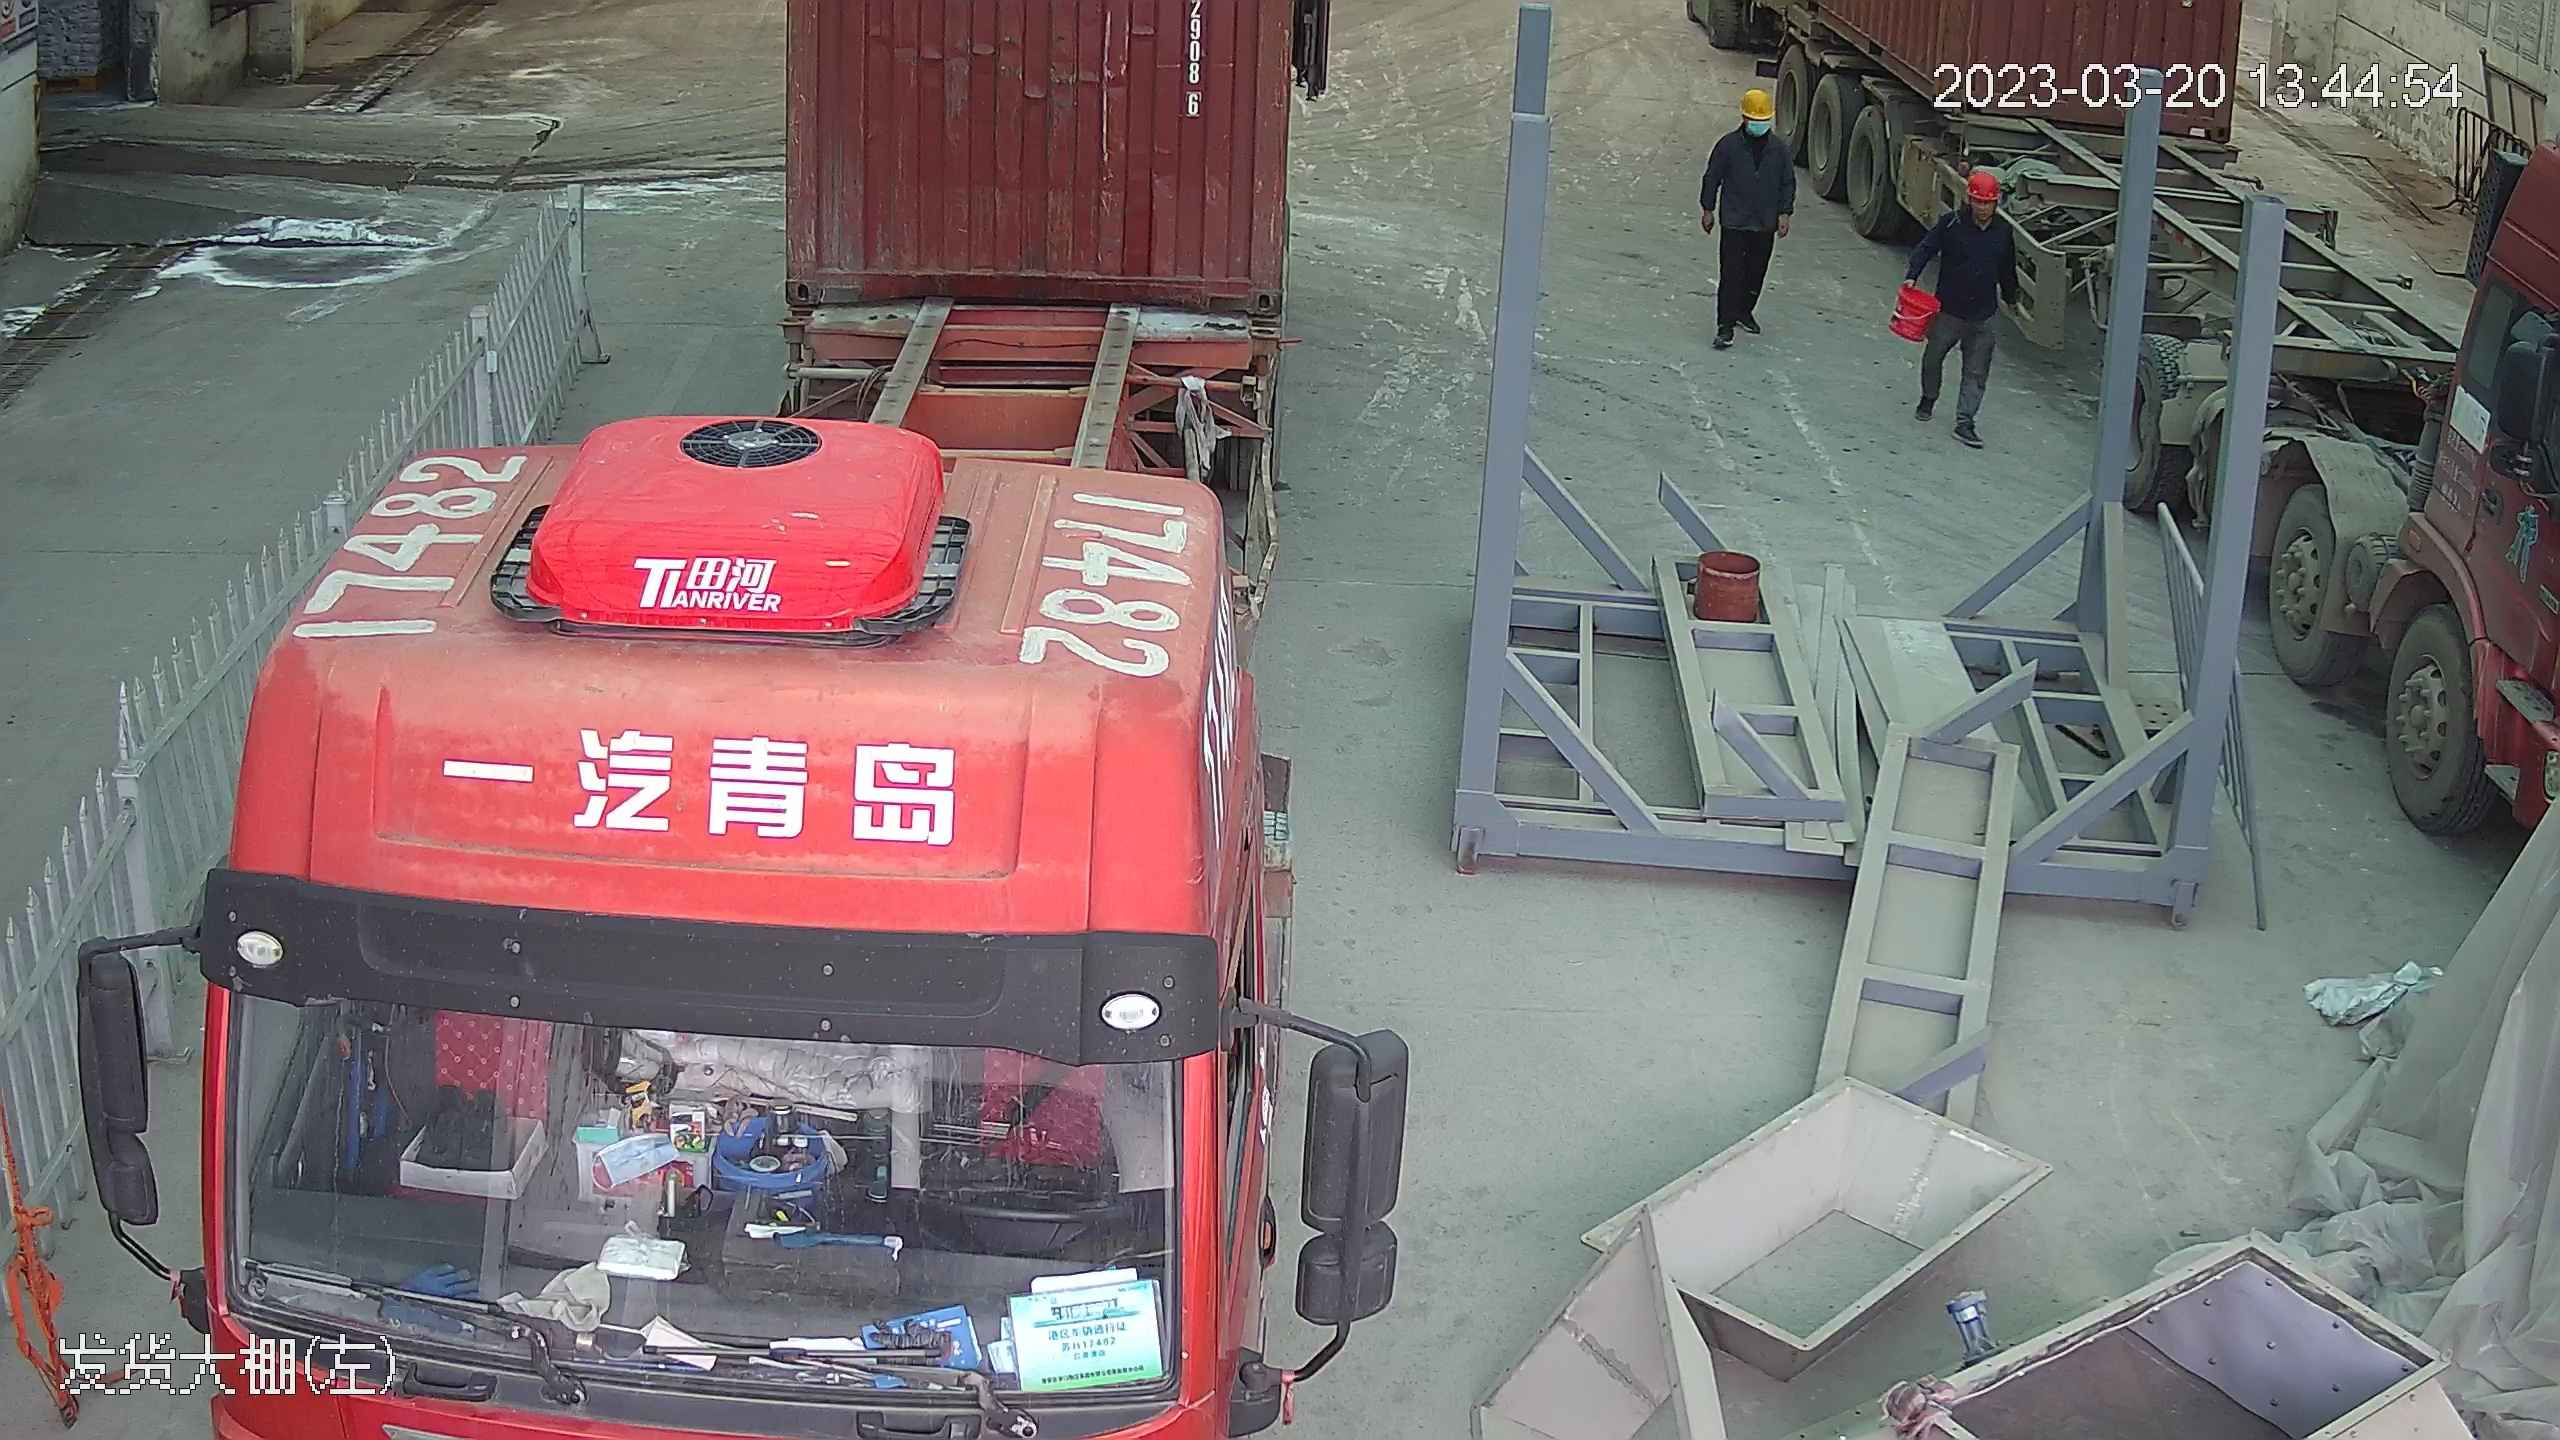head: (1931, 166, 2014, 253), (1708, 87, 1795, 169)
helmet: (1962, 166, 2002, 202), (1737, 86, 1776, 117)
people: (1895, 166, 2017, 447), (1696, 83, 1801, 353)
truck: (70, 1, 1311, 1440)
